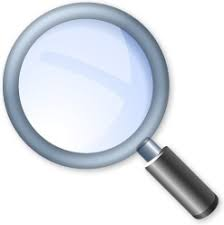searchIcon: (3, 1, 218, 217)
